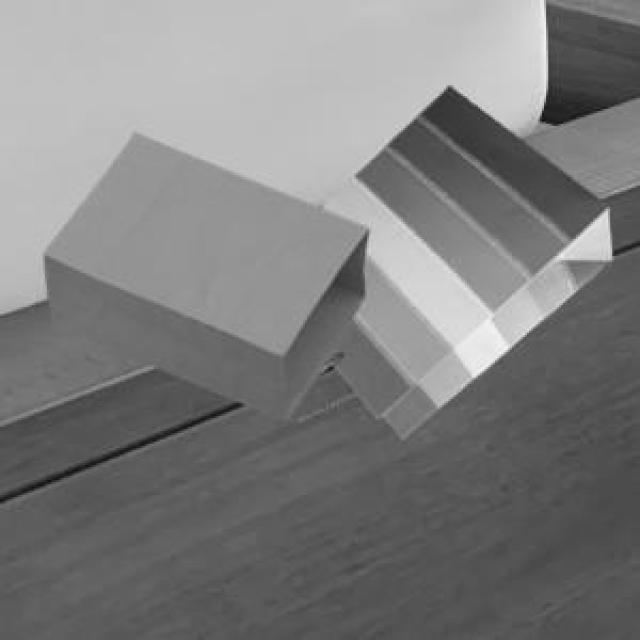paper: (318, 83, 608, 433), (41, 130, 365, 416)
